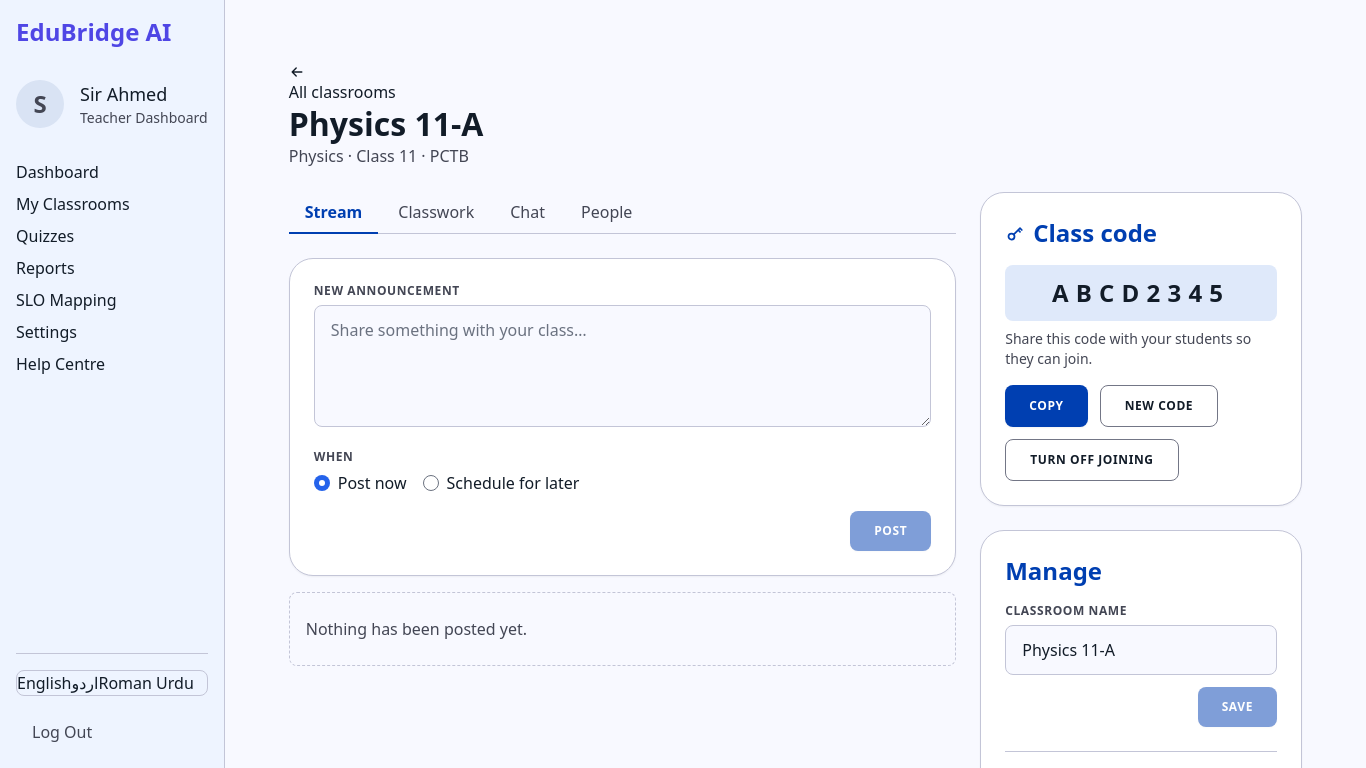
Test case: the owner › removes a student only after confirming
Click the tab "People" at (607, 213), box [565,192,648,234]
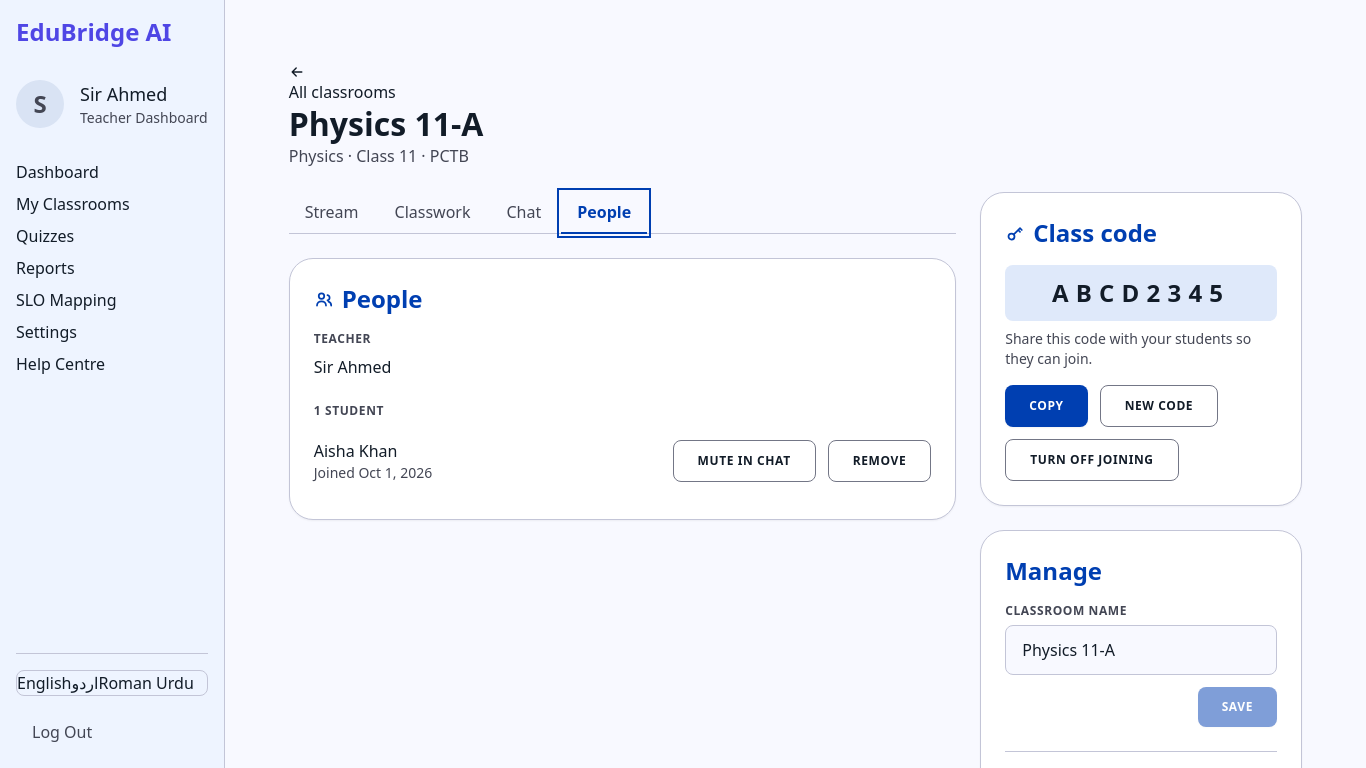
Click the button "Remove" at (879, 461), box [828,440,931,482]
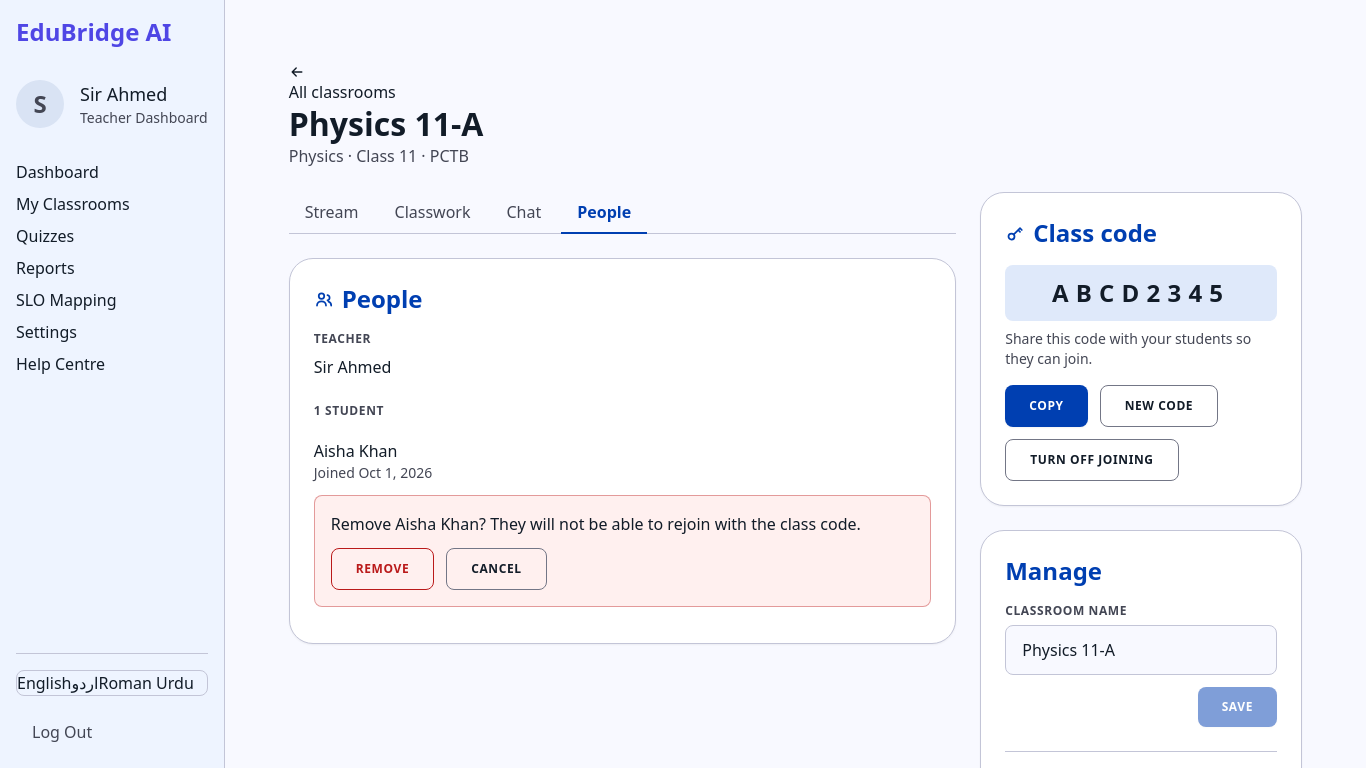
Click the button "Remove" at (382, 569), box [331,548,434,590]
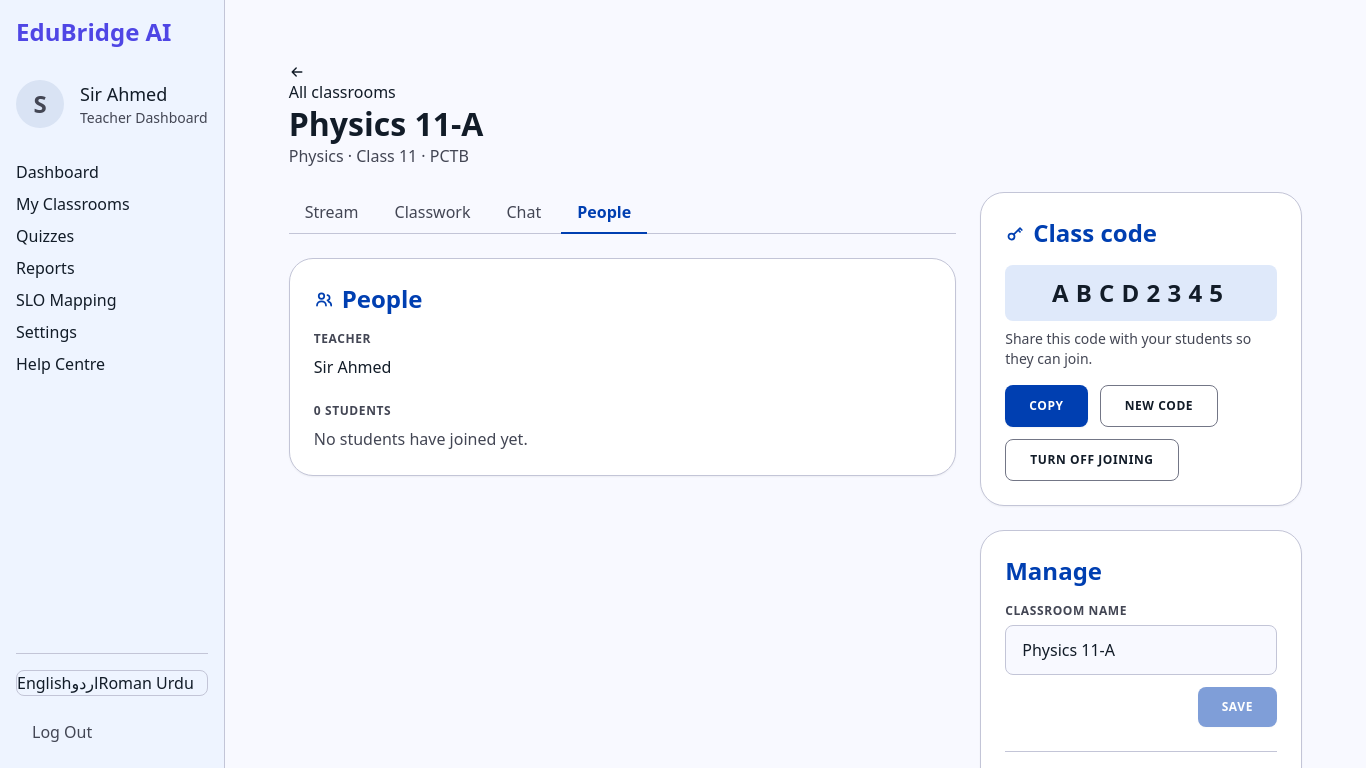
Check: the text "Aisha Khan" is gone
